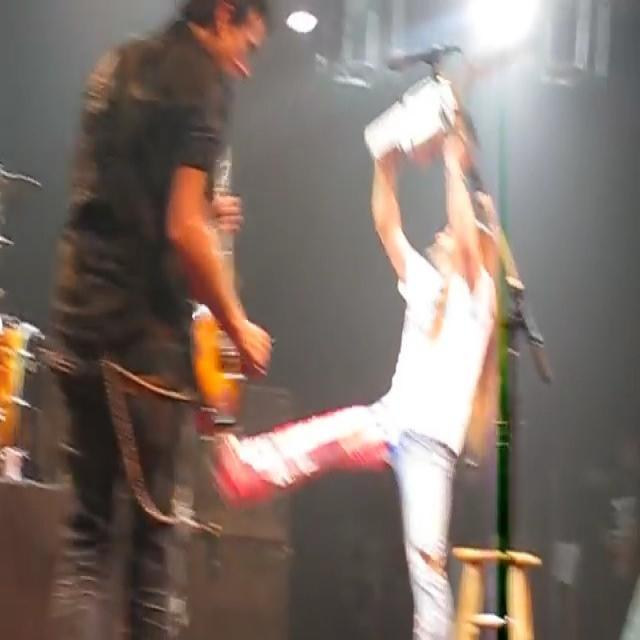Chainsaw: (357, 5, 578, 183)
